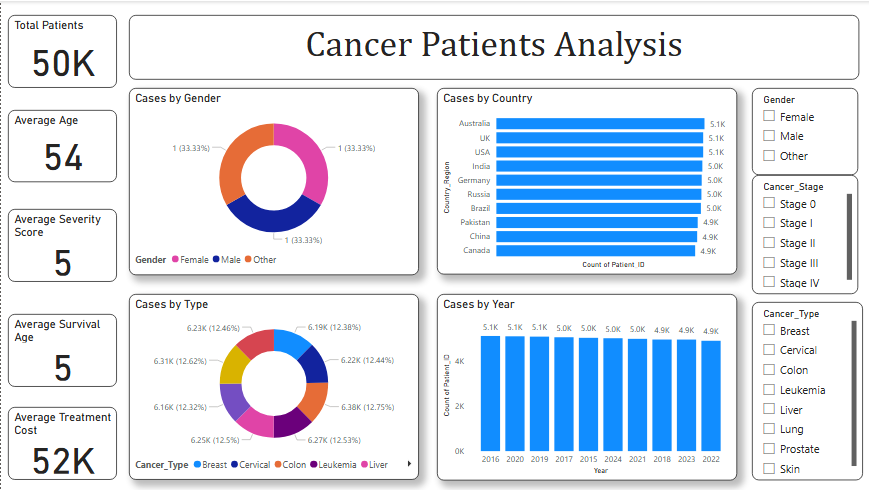

What the dashboard file says about the page in this screenshot:
{"tool":"powerbi","page":{"name":"Page 1","canvas":[1280,720],"ordinal":0},"visuals":[{"type":"card","title":"Total Patients","fields":{"Values":["Count(global_cancer_patients_2015_202.Patient_ID)"]},"box":[10.3,20.6,160.2,107.3],"z":0},{"type":"card","title":"Average Age","fields":{"Values":["Avg(global_cancer_patients_2015_202.Age)"]},"box":[10.3,160.2,160.2,105.8],"z":1000},{"type":"card","title":"Average Survival Age","fields":{"Values":["Avg(global_cancer_patients_2015_202.Survival_Years)"]},"box":[10.3,459.9,160.2,107.3],"z":2000},{"type":"donutChart","title":"Cases by Gender","fields":{"Y":["Count(global_cancer_patients_2015_202.Gender)"],"Series":["global_cancer_patients_2015_202.Gender"]},"box":[188.1,127.8,426.1,274.8],"z":3000},{"type":"donutChart","title":"Cases by Type","fields":{"Y":["CountNonNull(global_cancer_patients_2015_202.Cancer_Type)"],"Series":["global_cancer_patients_2015_202.Cancer_Type"]},"box":[188.1,430.5,426.1,273.3],"z":4000},{"type":"slicer","fields":{"Values":["global_cancer_patients_2015_202.Gender"]},"box":[1103.5,127.8,155.8,127.8],"z":5000},{"type":"slicer","fields":{"Values":["global_cancer_patients_2015_202.Cancer_Stage"]},"box":[1103.5,255.7,155.8,174.9],"z":6000},{"type":"slicer","fields":{"Values":["global_cancer_patients_2015_202.Cancer_Type"]},"box":[1103.5,442.3,163.1,261.6],"z":7000},{"type":"clusteredBarChart","title":"Cases by Country","fields":{"Category":["global_cancer_patients_2015_202.Country_Region"],"Y":["CountNonNull(global_cancer_patients_2015_202.Patient_ID)"]},"box":[640.9,128.2,440.7,273.9],"z":8000},{"type":"card","title":"Average Treatment Cost","fields":{"Values":["Avg(global_cancer_patients_2015_202.Treatment_Cost_USD)"]},"box":[10.3,596.6,160.2,107.3],"z":8001},{"type":"card","title":"Average Severity Score","fields":{"Values":["Avg(global_cancer_patients_2015_202.Target_Severity_Score)"]},"box":[10.3,305.6,160.2,107.3],"z":8002},{"type":"clusteredColumnChart","title":"Cases by Year","fields":{"Category":["global_cancer_patients_2015_202.Year"],"Y":["CountNonNull(global_cancer_patients_2015_202.Patient_ID)"]},"box":[640.9,430.2,440.7,273.9],"z":8003},{"type":"textbox","box":[187.9,21.1,1072.8,94.8],"z":8004}]}

Visuals, with their boxes in screenshot pixels (x1, y1, x2, y2), scaled from the page's 1280x720 canvas onto the 869x490 screenshot:
"Total Patients" card: 7 14 116 87
"Average Age" card: 7 109 116 181
"Average Survival Age" card: 7 313 116 386
"Cases by Gender" donutChart: 128 87 417 274
"Cases by Type" donutChart: 128 293 417 479
slicer - global_cancer_patients_2015_202.Gender: 749 87 855 174
slicer - global_cancer_patients_2015_202.Cancer_Stage: 749 174 855 293
slicer - global_cancer_patients_2015_202.Cancer_Type: 749 301 860 479
"Cases by Country" clusteredBarChart: 435 87 734 274
"Average Treatment Cost" card: 7 406 116 479
"Average Severity Score" card: 7 208 116 281
"Cases by Year" clusteredColumnChart: 435 293 734 479
textbox: 128 14 856 79
